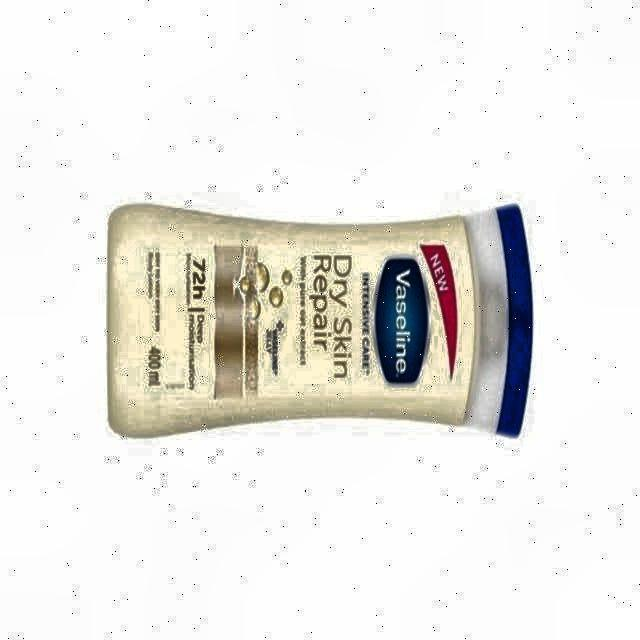plastic: (108, 205, 532, 436)
